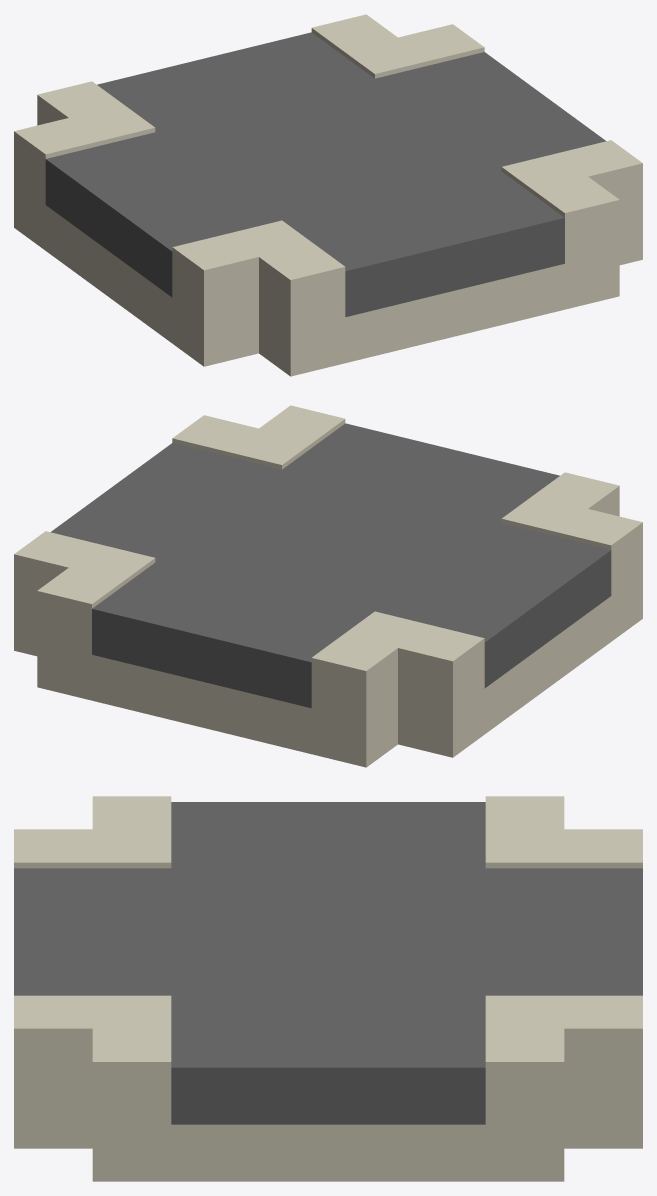
File: tile182.fbx
The picture shows the model from 3 angles, top to bottom: view 1: azimuth 30°, elevation 25°; view 2: azimuth 150°, elevation 25°; view 3: azimuth 270°, elevation 25°; orthographic projection. The views are drawn at different scales.
Visible parts, largest first — view 1: tile182; view 2: tile182; view 3: tile182.
Boxes of the visible parts, x1,y1,x2,y2 form: tile182: (14,14,642,376); tile182: (14,405,642,767); tile182: (14,796,642,1181).
Size of the model in its own units: 10 by 2.1 by 10.
